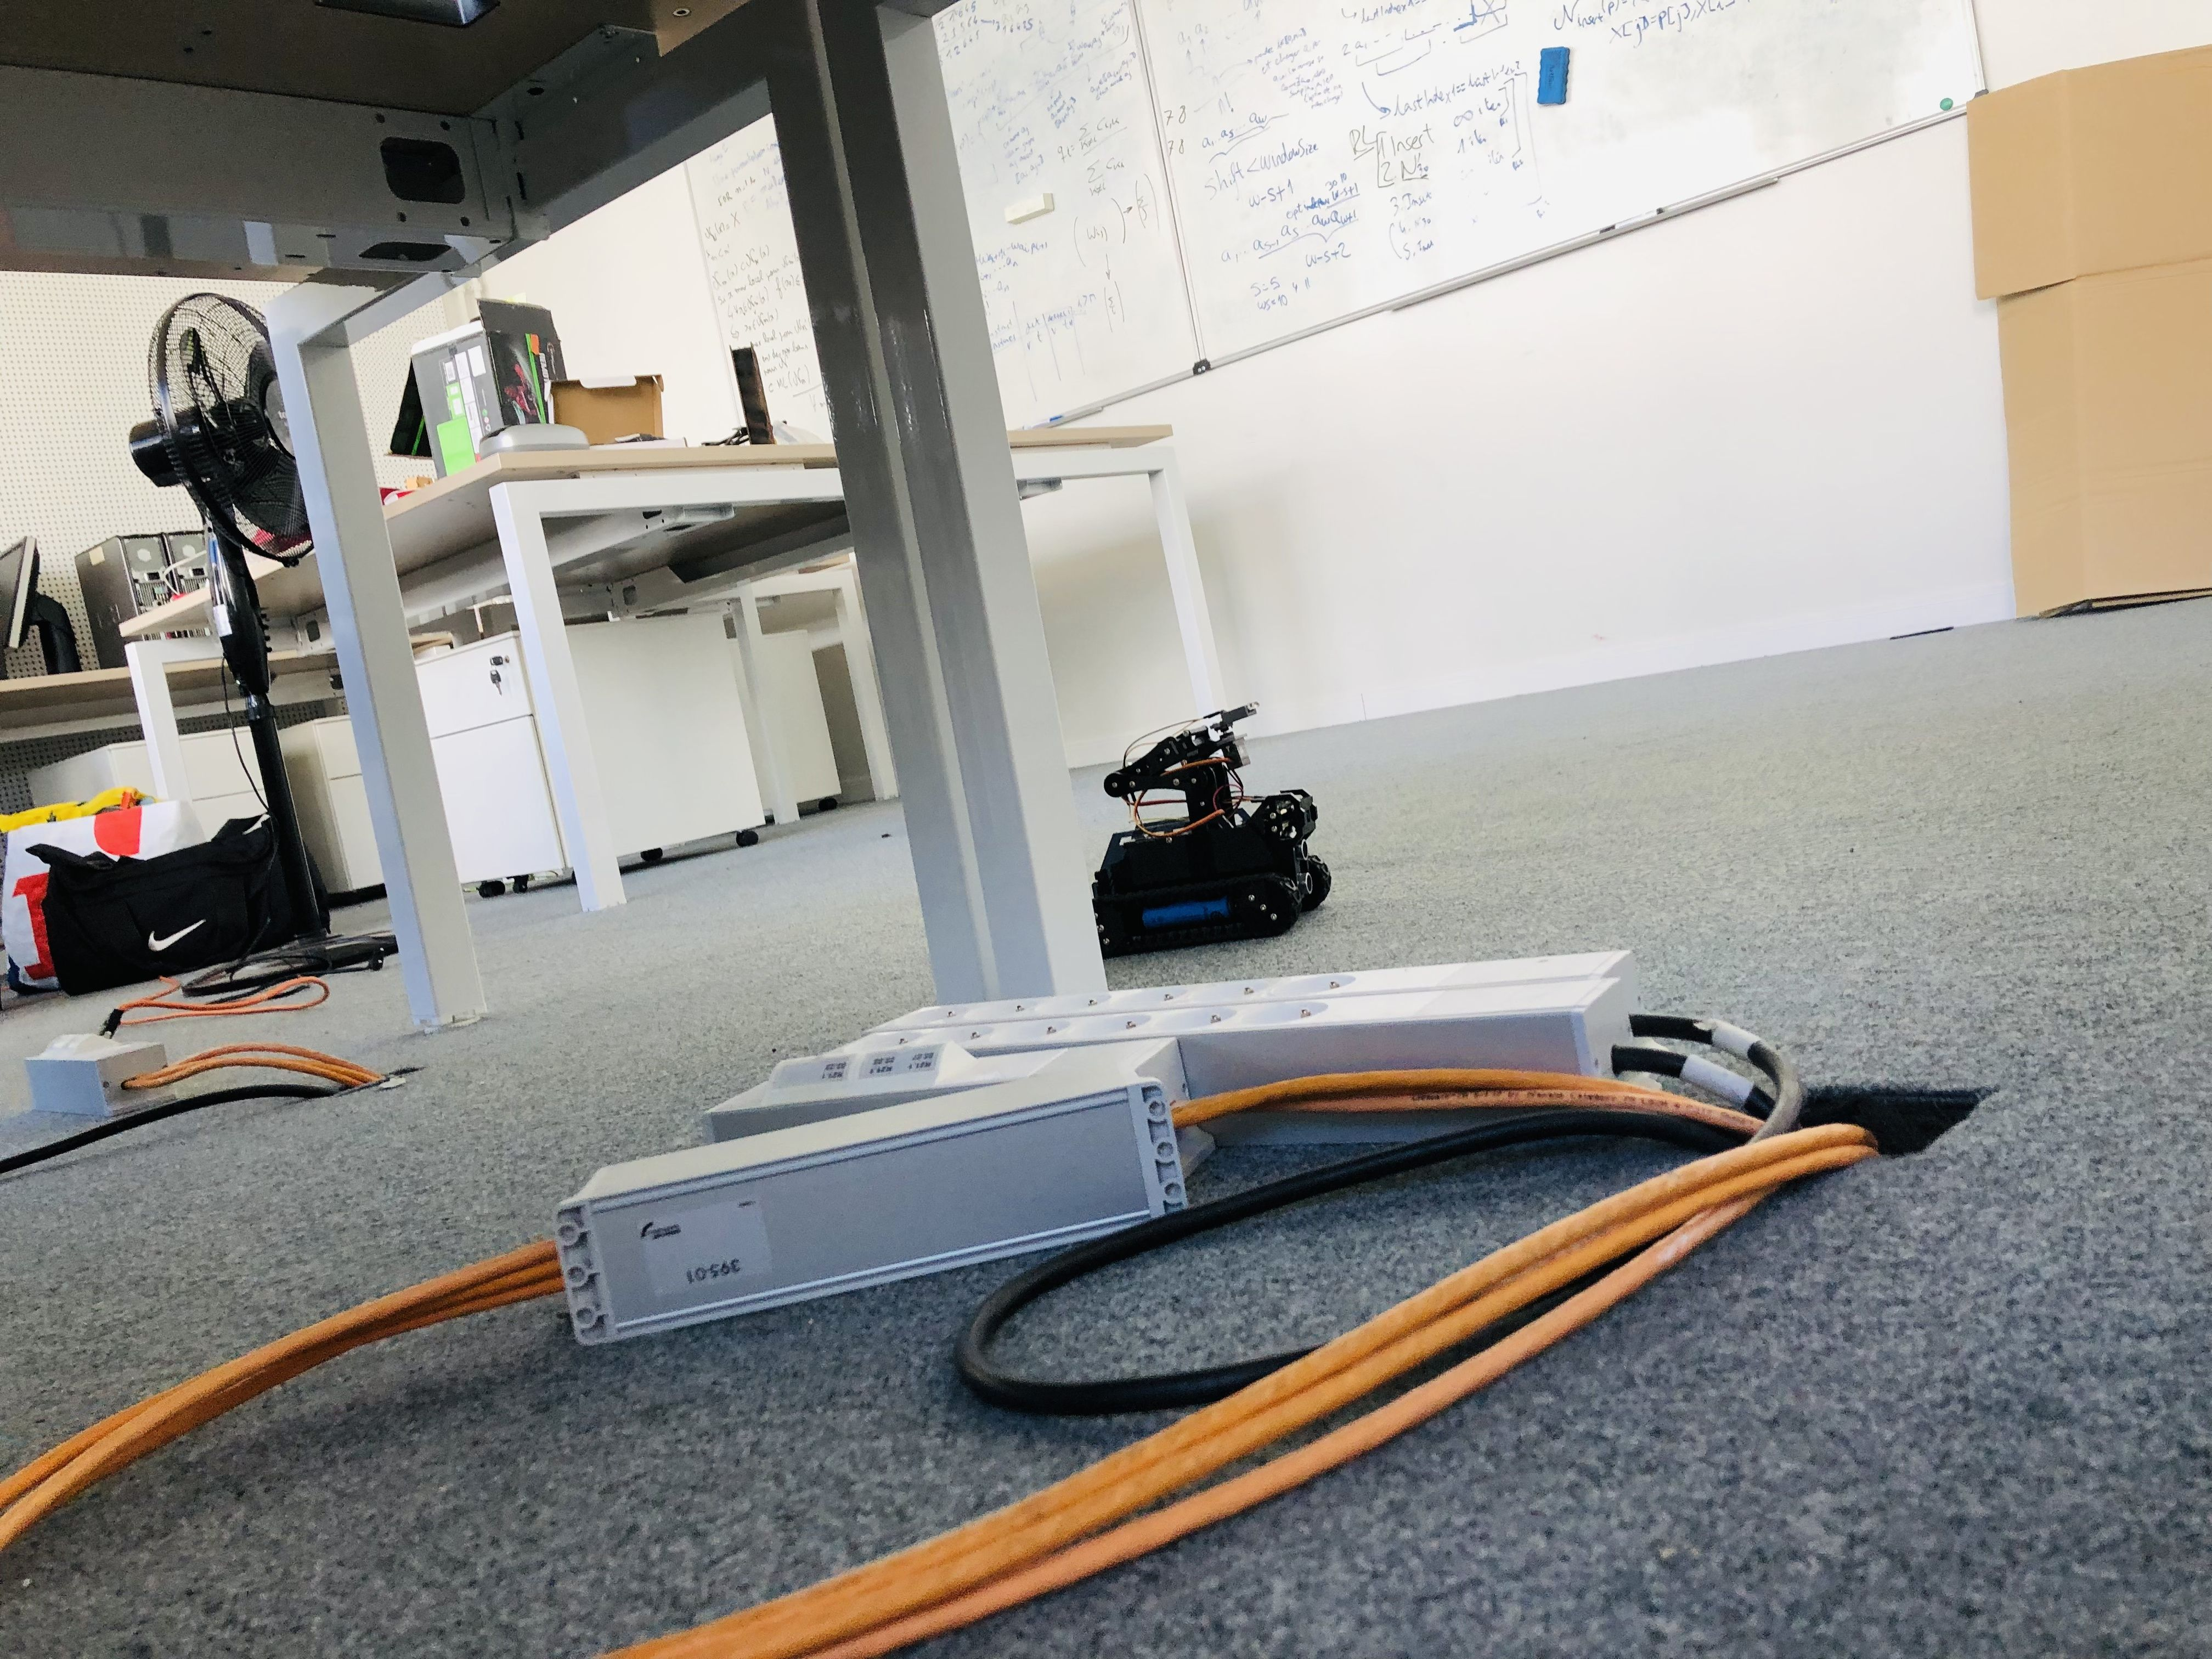rasptank: (1082, 704, 1329, 962)
